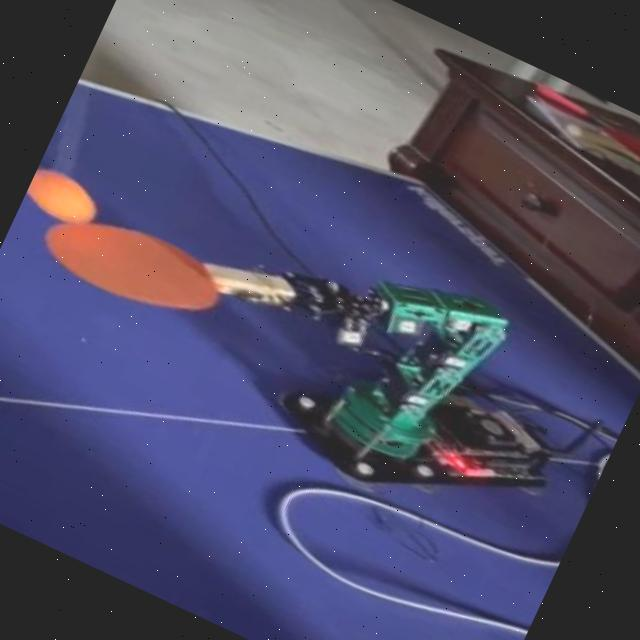ping-pong-ball: (22, 162, 106, 232)
